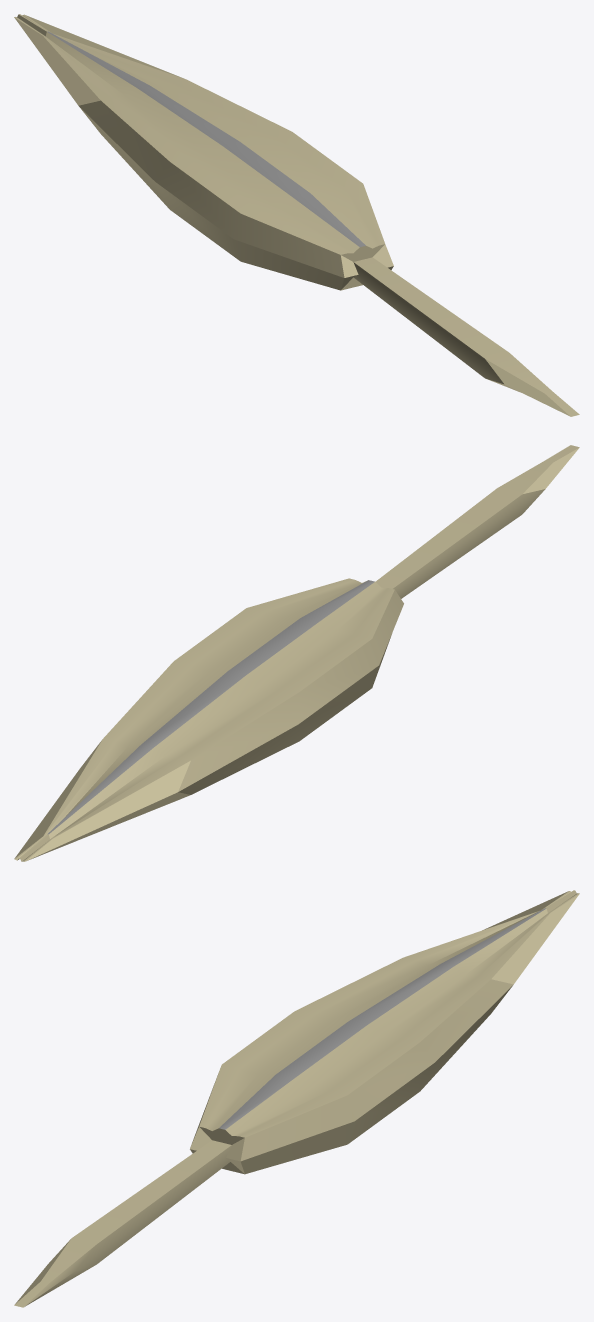
Rendered from feather.glb.
The picture shows the model from 3 angles, top to bottom: view 1: azimuth 30°, elevation 25°; view 2: azimuth 150°, elevation 25°; view 3: azimuth 330°, elevation 25°; orthographic projection. The views are drawn at different scales.
Parts seen in each view (by area): view 1: Cube; view 2: Cube; view 3: Cube.
Part boxes in pixels (x1,y1,x2,y2): Cube: (14,14,579,416); Cube: (14,445,579,861); Cube: (14,890,579,1307).
Size of the model in its own units: 2.22 by 0.7963 by 15.51.
